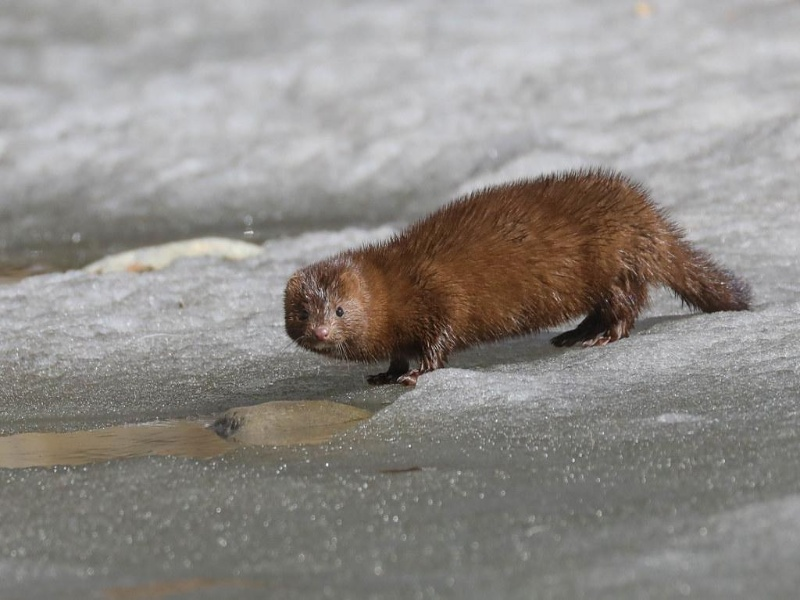minkish: (282, 166, 755, 387)
